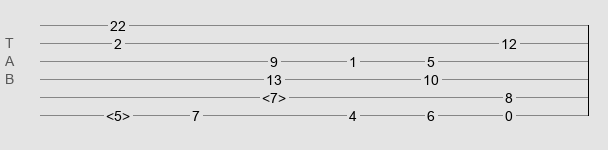0: (505, 108, 513, 118)
1: (349, 54, 357, 64)
10: (423, 72, 439, 82)
12: (501, 36, 517, 46)
13: (266, 72, 282, 82)
2: (114, 36, 122, 46)
22: (110, 18, 126, 28)
4: (349, 108, 357, 118)
5: (427, 54, 435, 64)
6: (427, 108, 435, 118)
7: (192, 108, 200, 118)
8: (505, 90, 513, 100)
9: (270, 54, 278, 64)
harmonic: (106, 108, 130, 118), (262, 90, 286, 100)
